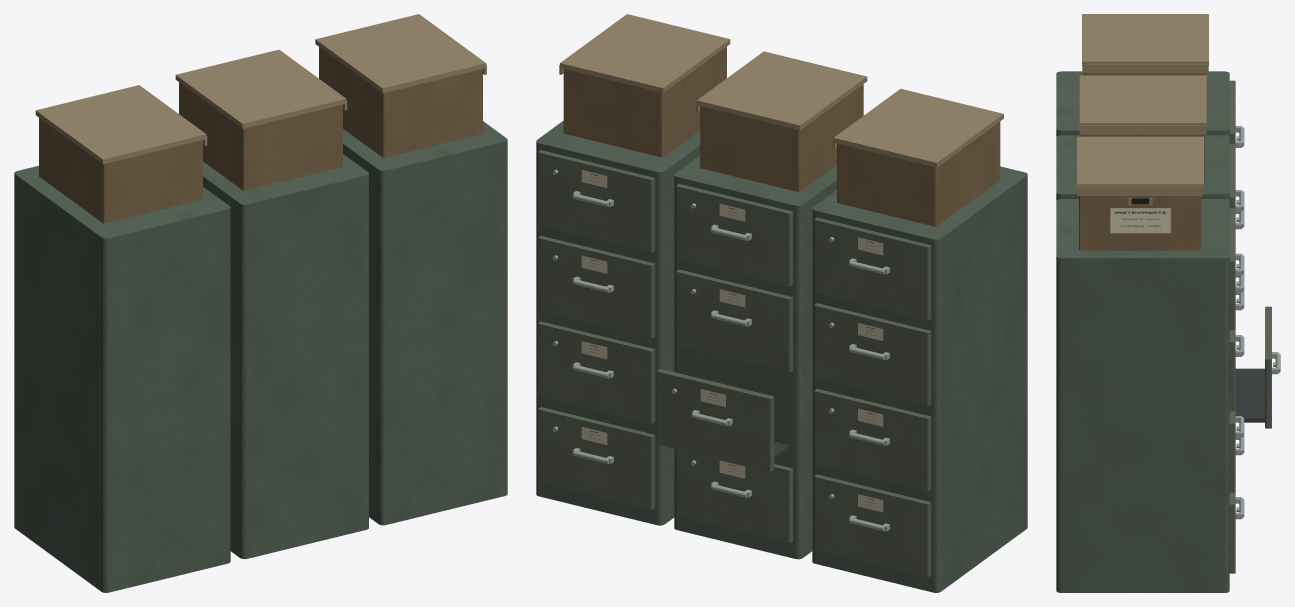
The model's file is SM_ArchiveProps_FilingCabinets.glb.
3 views of the same model, side by side, from view 1: azimuth 30°, elevation 25°; view 2: azimuth 150°, elevation 25°; view 3: azimuth 270°, elevation 25° (orthographic). The views are drawn at different scales.
Visible parts, largest first — view 1: SM_ArchiveProps_FilingCabinets; view 2: SM_ArchiveProps_FilingCabinets; view 3: SM_ArchiveProps_FilingCabinets.
Boxes of the visible parts, bbox=[...] form: SM_ArchiveProps_FilingCabinets: bbox=[14, 14, 507, 592]; SM_ArchiveProps_FilingCabinets: bbox=[536, 14, 1027, 592]; SM_ArchiveProps_FilingCabinets: bbox=[1056, 14, 1280, 592].
Size of the model in its own units: 1.58 by 1.59 by 0.802.
Materials: 8 (4 with a texture image).
